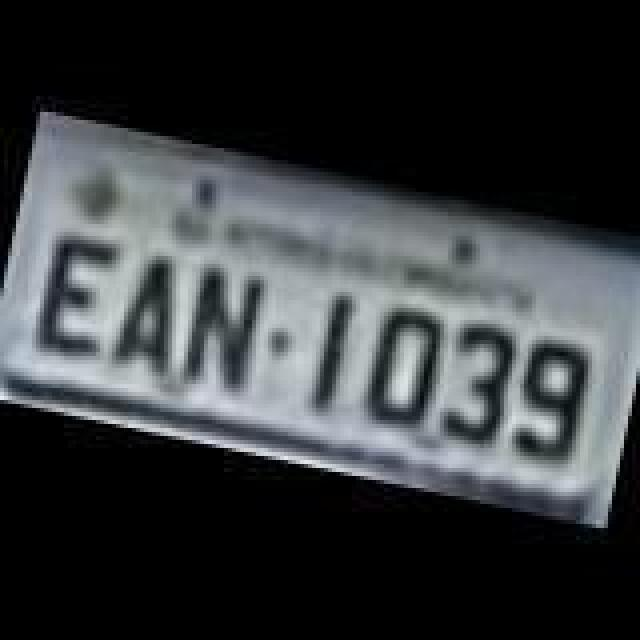1: (304, 290, 368, 414)
3: (432, 318, 528, 450)
9: (500, 332, 596, 468)
A: (106, 240, 198, 384)
E: (28, 228, 124, 364)
N: (168, 256, 272, 400)
O: (354, 300, 446, 428)
